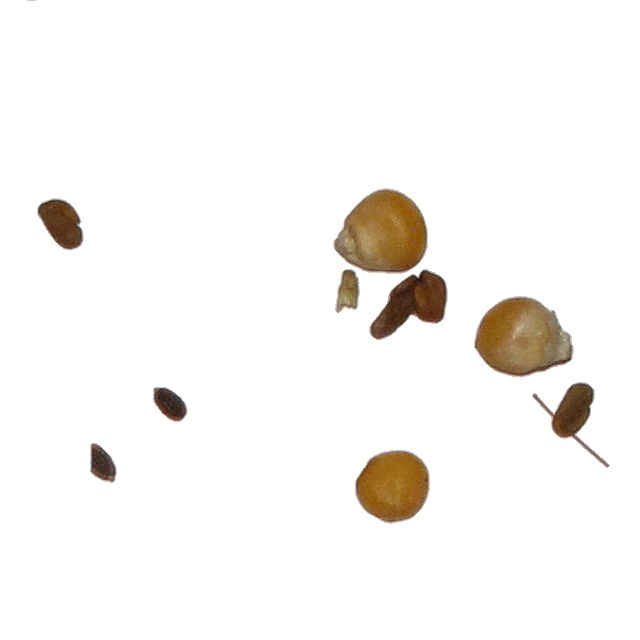buckwheat: (368, 268, 449, 341), (36, 197, 85, 252), (152, 386, 189, 423), (89, 442, 118, 484)
dill: (550, 425, 613, 469), (334, 268, 361, 314)
mais: (473, 295, 575, 379), (332, 187, 429, 275), (354, 449, 431, 525)
